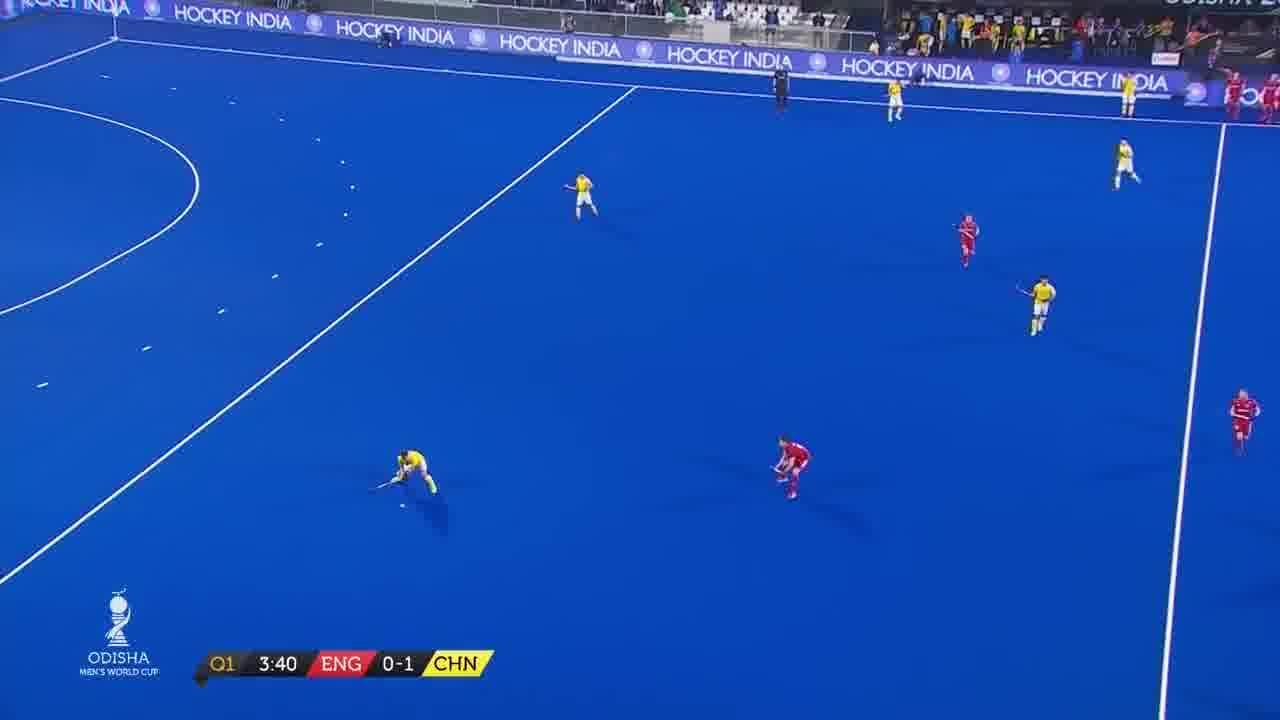ball: (392, 498, 414, 512)
